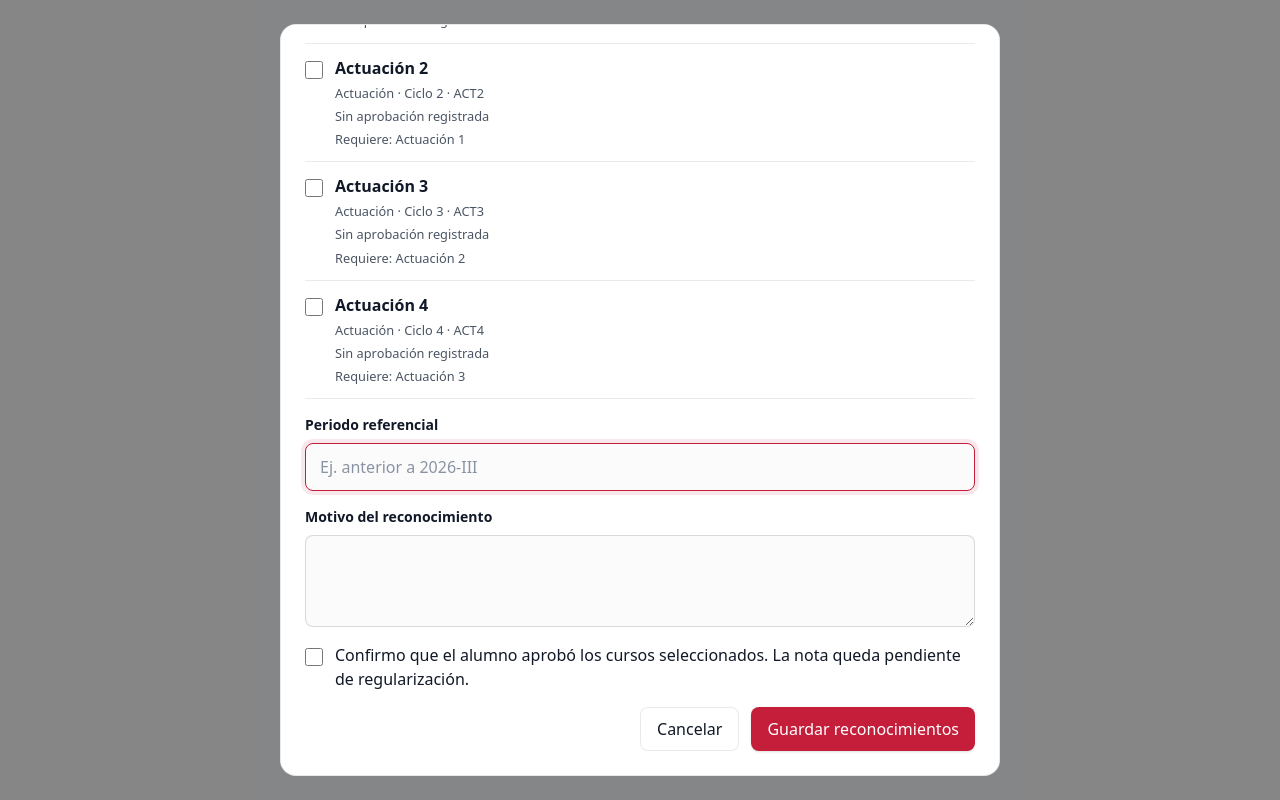
it: reconocimiento desde malla › exige selección, motivo y confirmación explícita
(page scrolled)
What coordinates should you click on to do the following:
click the button "Guardar reconocimientos"
I would click on:
 (863, 729)
Its box is [751,707,975,751].
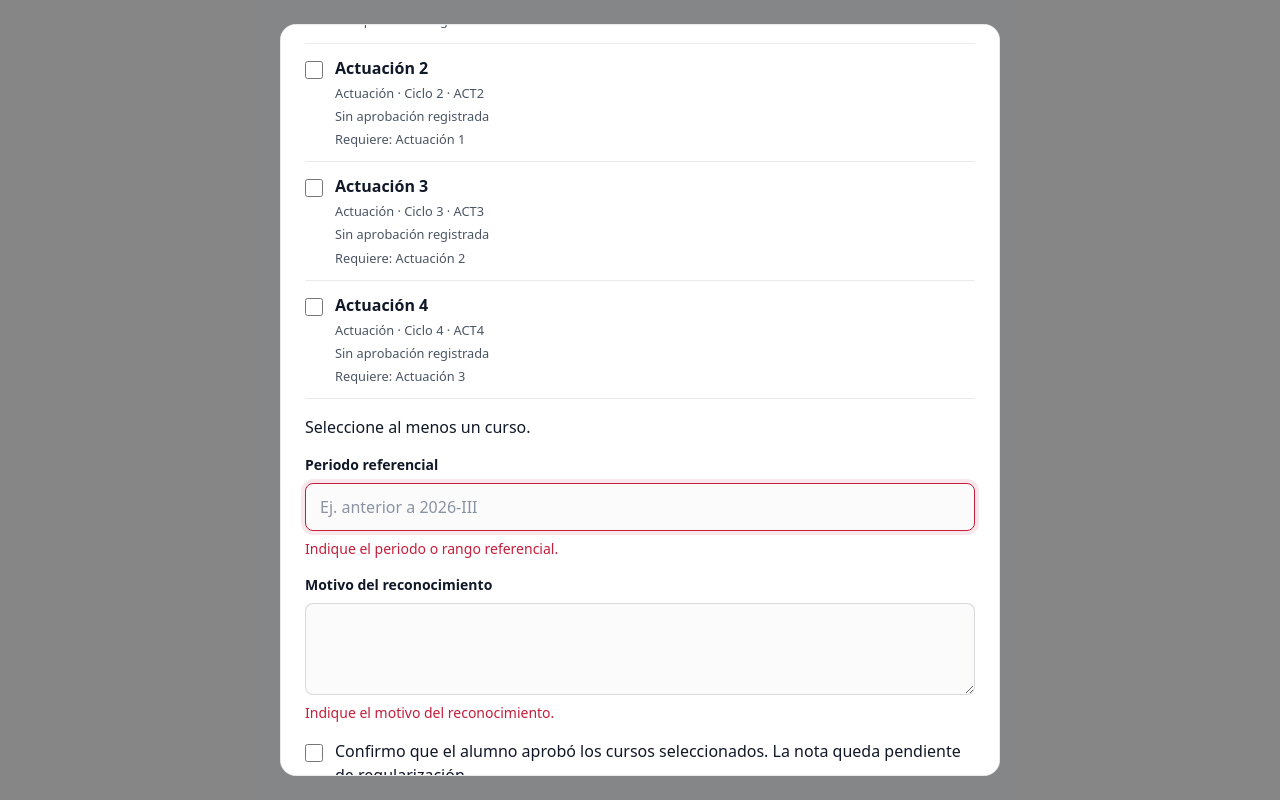
Check: the text "Seleccione al menos un curso." is shown, box [305,416,531,438]
